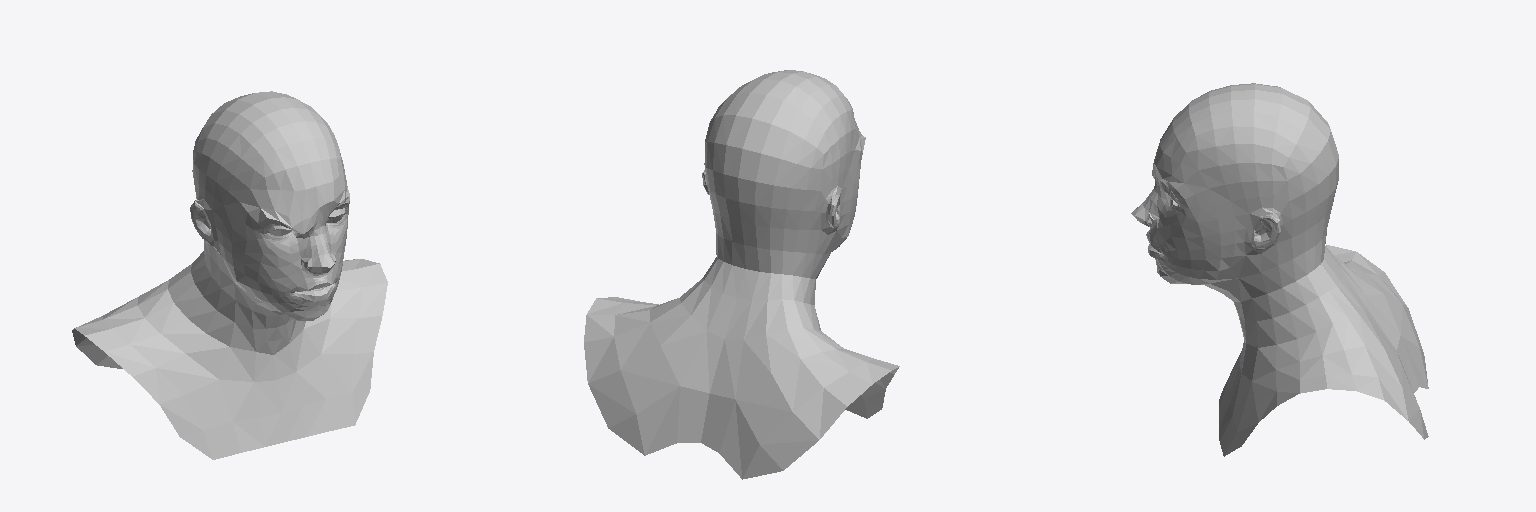
File: REyebrowDown.obj
3 renders of one model, left to right at view 1: azimuth 30°, elevation 25°; view 2: azimuth 150°, elevation 25°; view 3: azimuth 270°, elevation 25°, orthographic.
Visible parts, largest first — view 1: ReyebrowDown Blendshapes; view 2: ReyebrowDown Blendshapes; view 3: ReyebrowDown Blendshapes.
Boxes of the visible parts, x1=… form: ReyebrowDown Blendshapes: x1=72, y1=91, x2=387, y2=459; ReyebrowDown Blendshapes: x1=584, y1=70, x2=899, y2=479; ReyebrowDown Blendshapes: x1=1131, y1=83, x2=1428, y2=456.
Size of the model in its own units: 449 by 482 by 391.